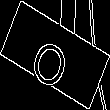O_NE: (31, 22, 79, 88)
